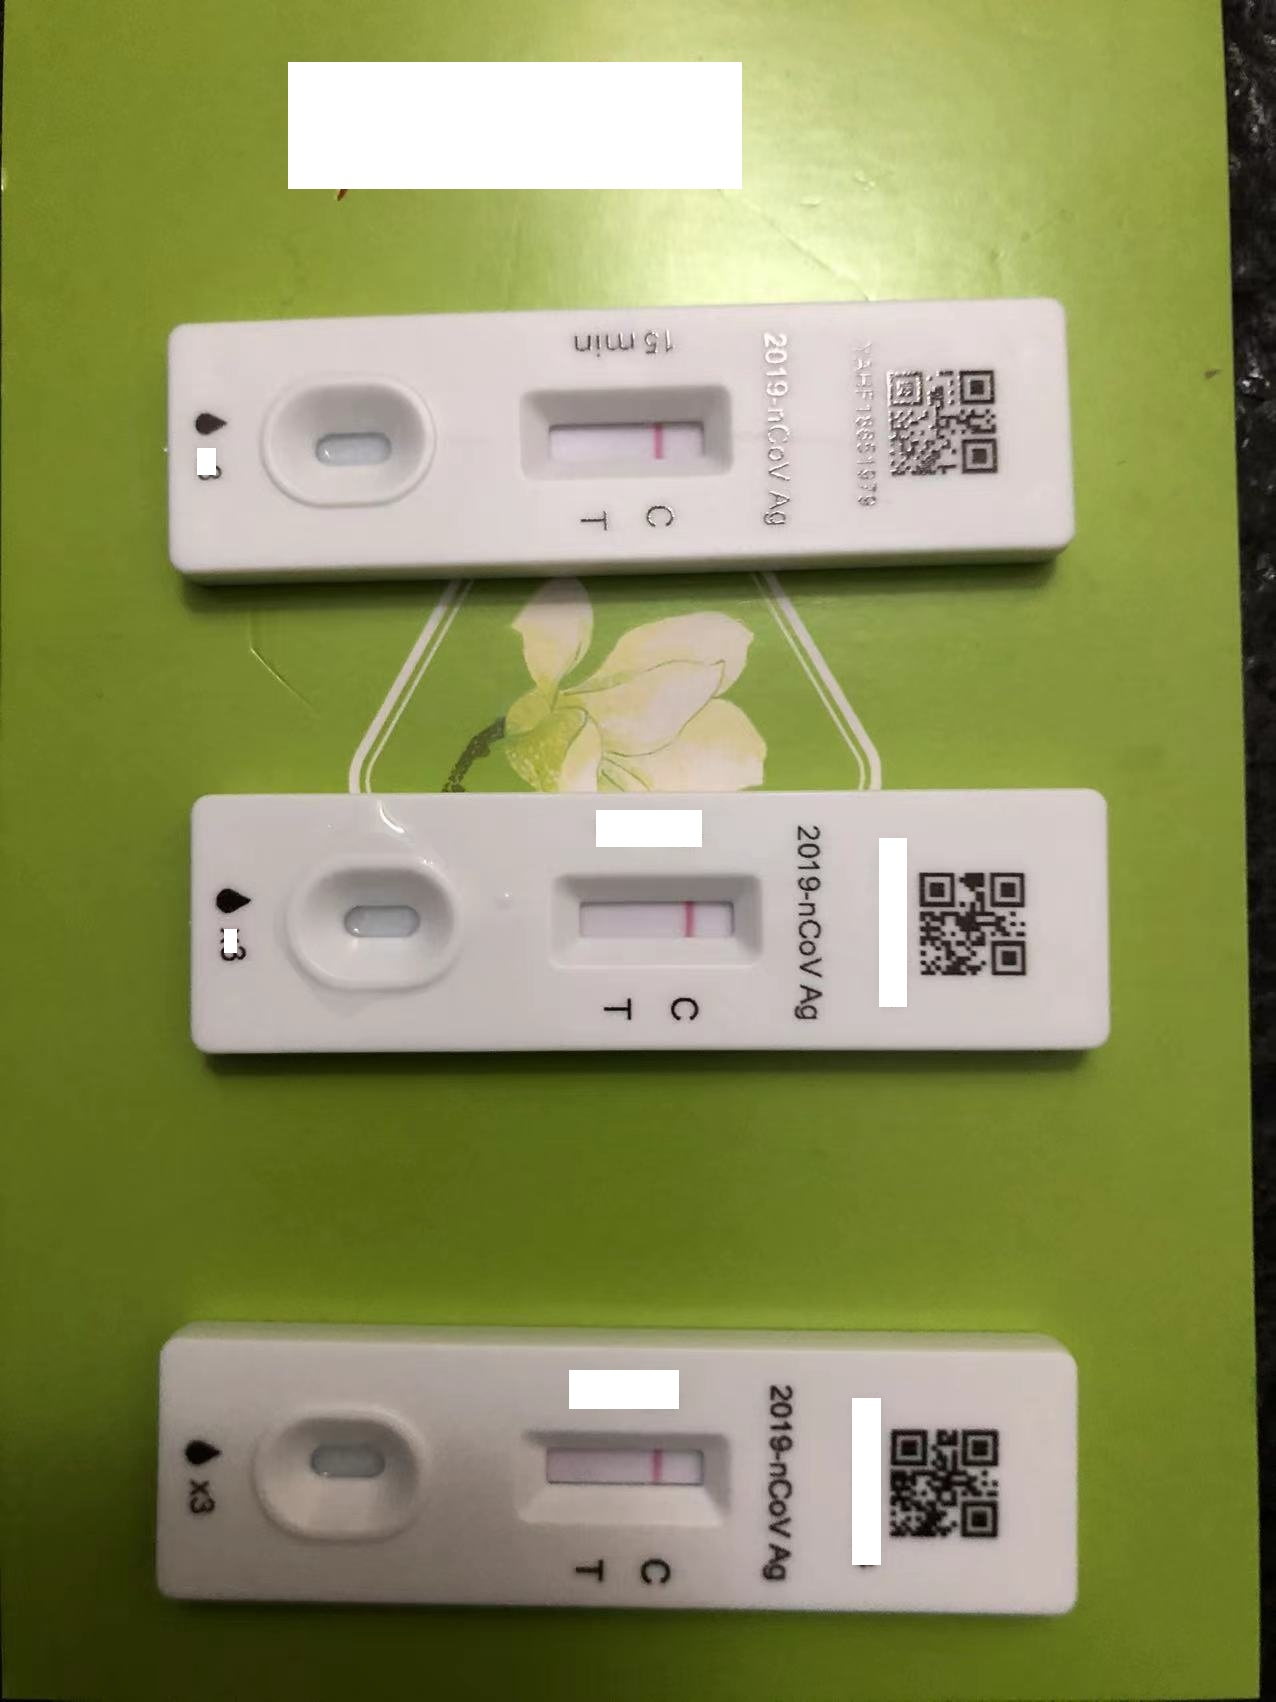negative: (552, 870, 773, 968), (529, 1427, 735, 1526), (517, 385, 741, 474)
